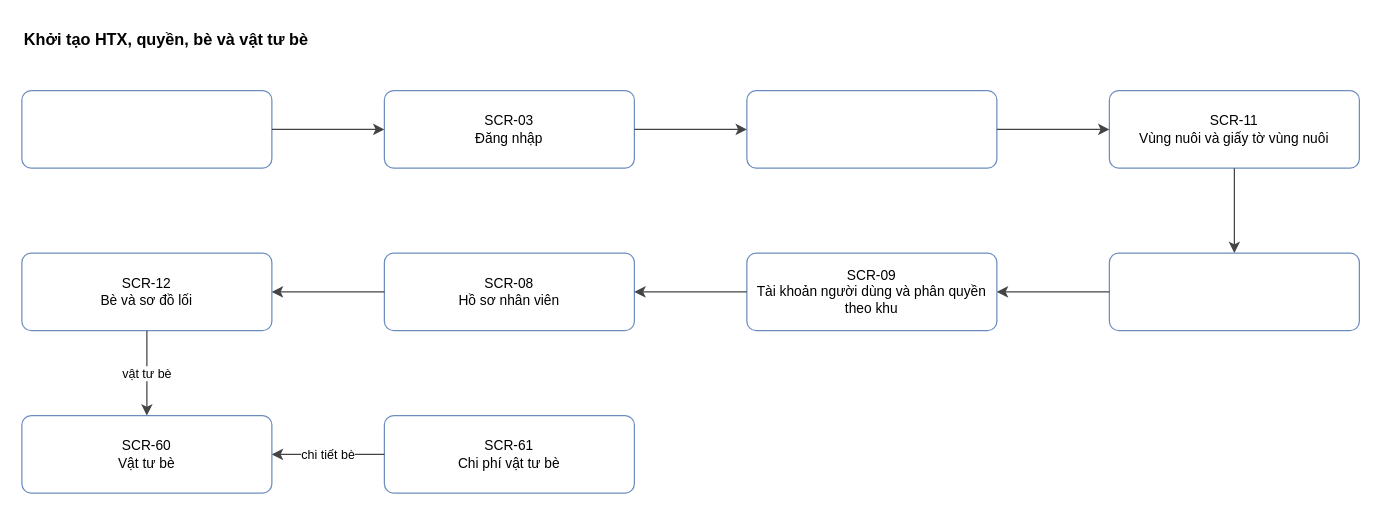
The diagram is 1381 pixels wide and 515 high, and some of its shapes have lost their labels. Each missing label, with the centre of its shape:
SCR-07 Hồ sơ hợp tác xã: the point at 871,128
SCR-10 Vai trò và quyền hạn: the point at 1233,291
SCR-56 Khởi tạo hợp tác xã: the point at 146,128
